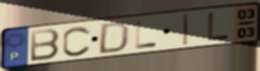B: (29, 27, 62, 63)
C: (61, 25, 93, 58)
D: (96, 21, 132, 56)
I: (182, 12, 190, 47)
L: (206, 11, 232, 42), (134, 19, 159, 50)
